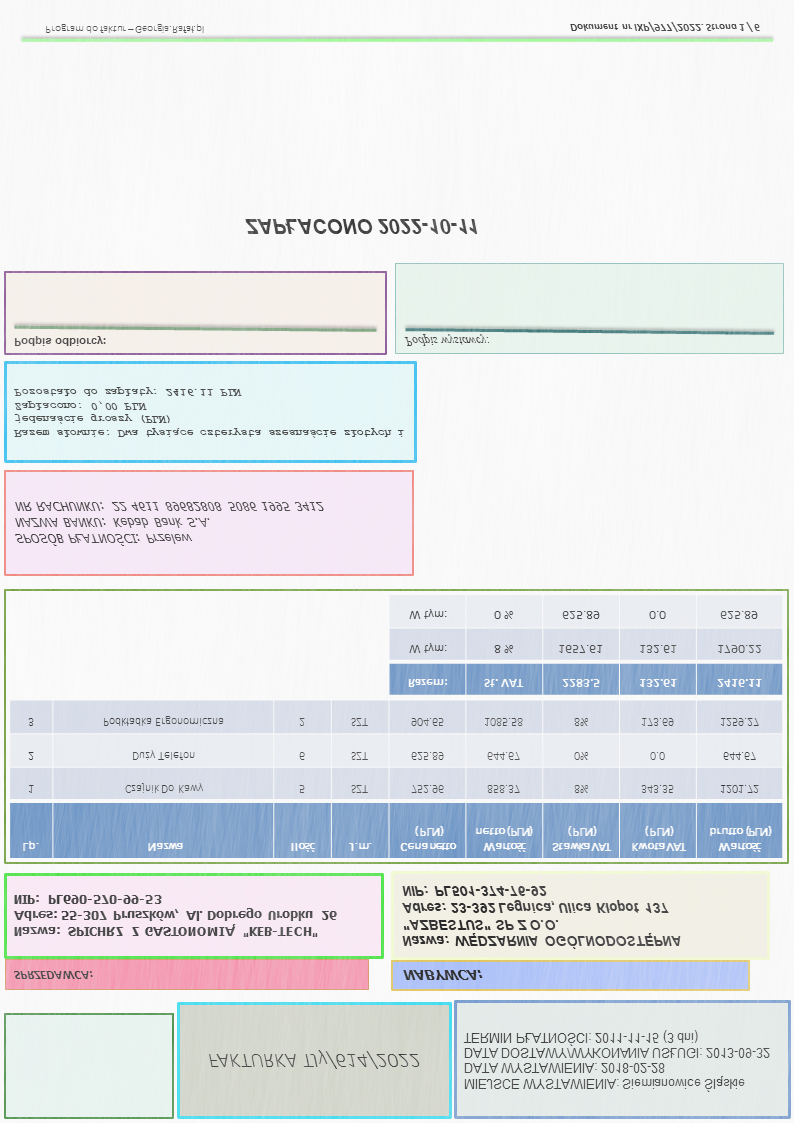Table: (8, 700, 783, 860), (388, 594, 784, 697)
TextBox: (12, 385, 404, 440), (461, 1027, 772, 1093), (399, 884, 683, 950), (12, 891, 338, 940), (11, 499, 325, 548), (242, 216, 480, 239), (205, 1050, 420, 1071), (567, 20, 761, 34), (42, 22, 206, 36), (401, 332, 490, 351), (11, 333, 108, 350), (10, 966, 94, 984), (400, 967, 484, 984)
